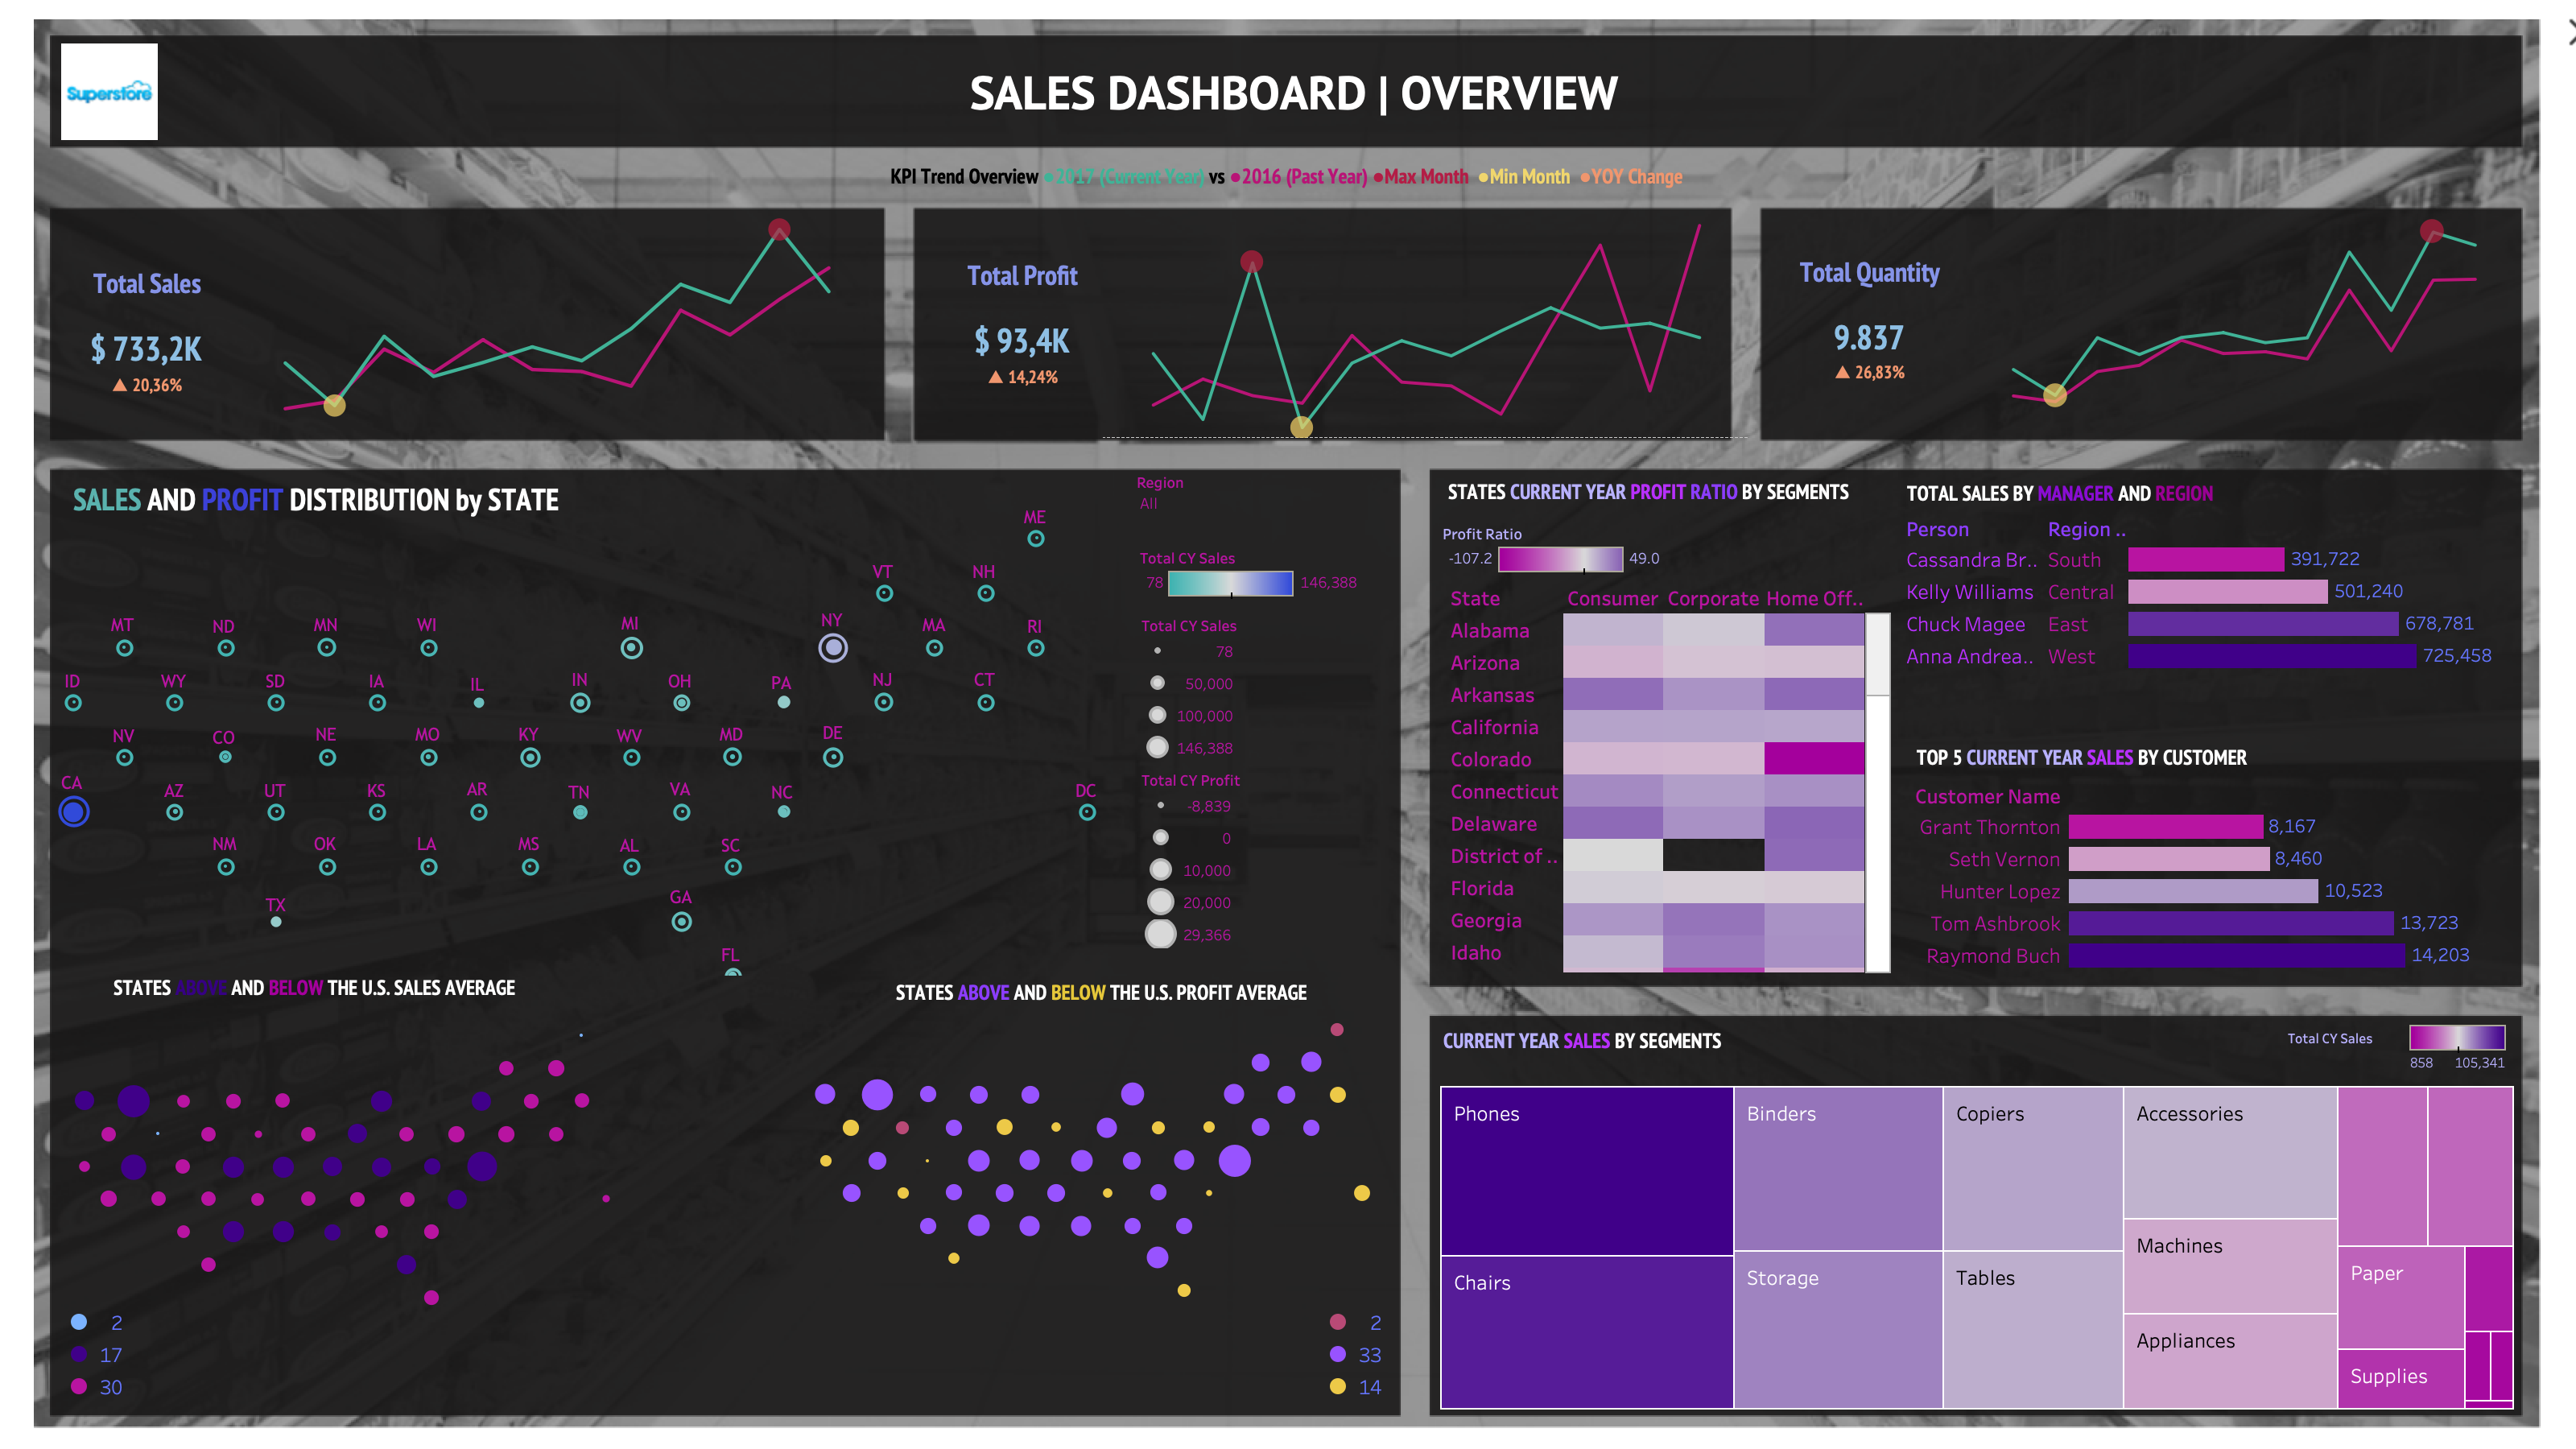

Layout of this report page (visuals, bound fields, positions):
{"tool":"tableau","page":{"name":"Dashboard 1 (2)","canvas":[1600,900],"ordinal":0},"visuals":[{"type":"image","param":"/Users/user/Downloads/ppt2.png","box":[8,8,1584,884]},{"type":"image","param":"/Users/user/Downloads/352792087_1595877310934575_4452545628147540722_n.png","box":[32,27,72,60]},{"type":"text","box":[32,40,1544,39]},{"type":"text","box":[32,91,1535,39]},{"type":"worksheet","title":"Quantity KPI","mark":"Automatic","box":[1094,127,136,146]},{"type":"worksheet","title":"Sales KPI","mark":"Automatic","box":[31,129,121,142]},{"type":"worksheet","title":"Profit KPI","mark":"Automatic","box":[569,129,133,147]},{"type":"worksheet","title":"Sales Line","mark":"Automatic","rows":["Calculation_121386094379376656"],"cols":["Order Date"],"box":[146,130,399,144]},{"type":"worksheet","title":"Qty Line","mark":"Automatic","rows":["Max Min Profit (copy)_121386094390906898"],"cols":["Order Date"],"box":[1224,130,339,140]},{"type":"worksheet","title":"Profit Line","mark":"Automatic","rows":["Max Min Sales (copy)_121386094388432913"],"cols":["Order Date"],"box":[685,132,401,140]},{"type":"text","box":[897,291,308,30]},{"type":"filter","title":"Profit and Sales Distribution (2)","param":"[federated.1uv2nqw1f3t2gt12b1h7e1turuur].[none:Region:nk]","box":[706,292,160,119]},{"type":"text","box":[1182,292,308,30]},{"type":"text","box":[43,296,371,30]},{"type":"worksheet","title":"Profit and Sales Distribution (2)","mark":"Circle","rows":["Row"],"cols":["Column","Column"],"box":[26,300,673,306]},{"type":"worksheet","title":"Manager CY Sales","mark":"Automatic","rows":["Person","Region (People)"],"cols":["Sales"],"box":[1178,317,383,127]},{"type":"legend","title":"Profit Ratio by Segments","param":"[federated.1uv2nqw1f3t2gt12b1h7e1turuur].[usr:Calculation_57702381245640719:qk]","box":[896,321,140,76]},{"type":"legend","title":"Profit and Sales Distribution (2)","param":"[federated.1uv2nqw1f3t2gt12b1h7e1turuur].[sum:Calculation_121386094352498688:qk]","box":[708,336,140,55]},{"type":"worksheet","title":"Profit Ratio by Segments","mark":"Automatic","rows":["State"],"cols":["Segment"],"box":[895,361,280,243]},{"type":"legend","title":"Profit and Sales Distribution (2)","param":"[federated.1uv2nqw1f3t2gt12b1h7e1turuur].[sum:Calculation_121386094352498688:qk]","box":[708,380,140,98]},{"type":"text","box":[1188,456,308,30]},{"type":"legend","title":"Profit and Sales Distribution (2)","param":"[federated.1uv2nqw1f3t2gt12b1h7e1turuur].[sum:Total CY Sales (copy)_121386094366","box":[708,476,140,118]},{"type":"worksheet","title":"Customer CY Sales","mark":"Automatic","rows":["Customer Name"],"cols":["Segment Sales (copy)_63402250736201730"],"box":[1185,483,381,130]},{"type":"text","box":[68,599,304,30]},{"type":"text","box":[554,602,308,30]},{"type":"worksheet","title":"Avg Profit","mark":"Circle","rows":["Row"],"cols":["Column"],"box":[490,619,378,203]},{"type":"worksheet","title":"Avg Sales","mark":"Circle","rows":["Row"],"cols":["Column"],"box":[30,623,365,203]},{"type":"text","box":[894,632,308,30]},{"type":"legend","title":"Treemaps","param":"[federated.1uv2nqw1f3t2gt12b1h7e1turuur].[sum:Calculation_121386094352498688:qk]","box":[1421,633,140,34]},{"type":"worksheet","title":"Treemaps","mark":"Automatic","box":[891,671,674,209]},{"type":"worksheet","title":"Avg Profit Count","mark":"Circle","rows":["Sales Avg Desc (copy)_57702381231611918"],"box":[801,811,70,70]}]}

Visuals, with their boxes in screenshot pixels (x1, y1, x2, y2), scaled from the page's 1600x900 canvas onto the 2576x1449 screenshot:
image: 13/13/2563/1436
image: 52/43/167/140
text: 52/64/2537/127
text: 52/147/2523/209
"Quantity KPI" worksheet: 1761/204/1980/440
"Sales KPI" worksheet: 50/208/245/436
"Profit KPI" worksheet: 916/208/1130/444
"Sales Line" worksheet: 235/209/877/441
"Qty Line" worksheet: 1971/209/2516/435
"Profit Line" worksheet: 1103/213/1748/438
text: 1444/469/1940/517
"Profit and Sales Distribution (2)" filter: 1137/470/1394/662
text: 1903/470/2399/518
text: 69/477/667/525
"Profit and Sales Distribution (2)" worksheet (Circle marks): 42/483/1125/976
"Manager CY Sales" worksheet: 1897/510/2513/715
"Profit Ratio by Segments" legend: 1443/517/1668/639
"Profit and Sales Distribution (2)" legend: 1140/541/1365/630
"Profit Ratio by Segments" worksheet: 1441/581/1892/972
"Profit and Sales Distribution (2)" legend: 1140/612/1365/770
text: 1913/734/2409/782
"Profit and Sales Distribution (2)" legend: 1140/766/1365/956
"Customer CY Sales" worksheet: 1908/778/2521/987
text: 109/964/599/1013
text: 892/969/1388/1018
"Avg Profit" worksheet (Circle marks): 789/997/1397/1323
"Avg Sales" worksheet (Circle marks): 48/1003/636/1330
text: 1439/1018/1935/1066
"Treemaps" legend: 2288/1019/2513/1074
"Treemaps" worksheet: 1435/1080/2520/1417
"Avg Profit Count" worksheet (Circle marks): 1290/1306/1402/1418
